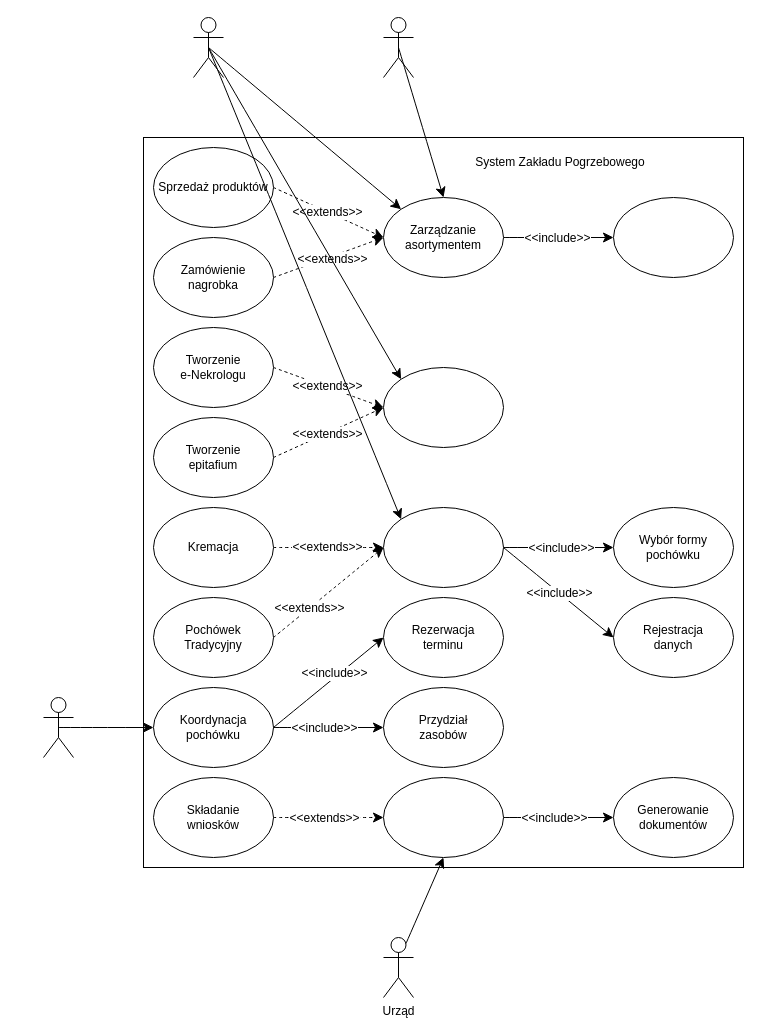
Some shapes in this 761 by 1036 pixel diagram are drawn without their labels. The centre of each missing label's shape, as x and y in pixels:
Aktualizacja stanów magazynowych: point (673, 237)
Dostawca: point (398, 47)
Obsługa e-usług: point (443, 407)
Obsługa urzędowa: point (443, 817)
Podwykonawca: point (58, 727)
Przyjęcie zlecenia: point (443, 547)
Zleceniodawca: point (208, 47)
